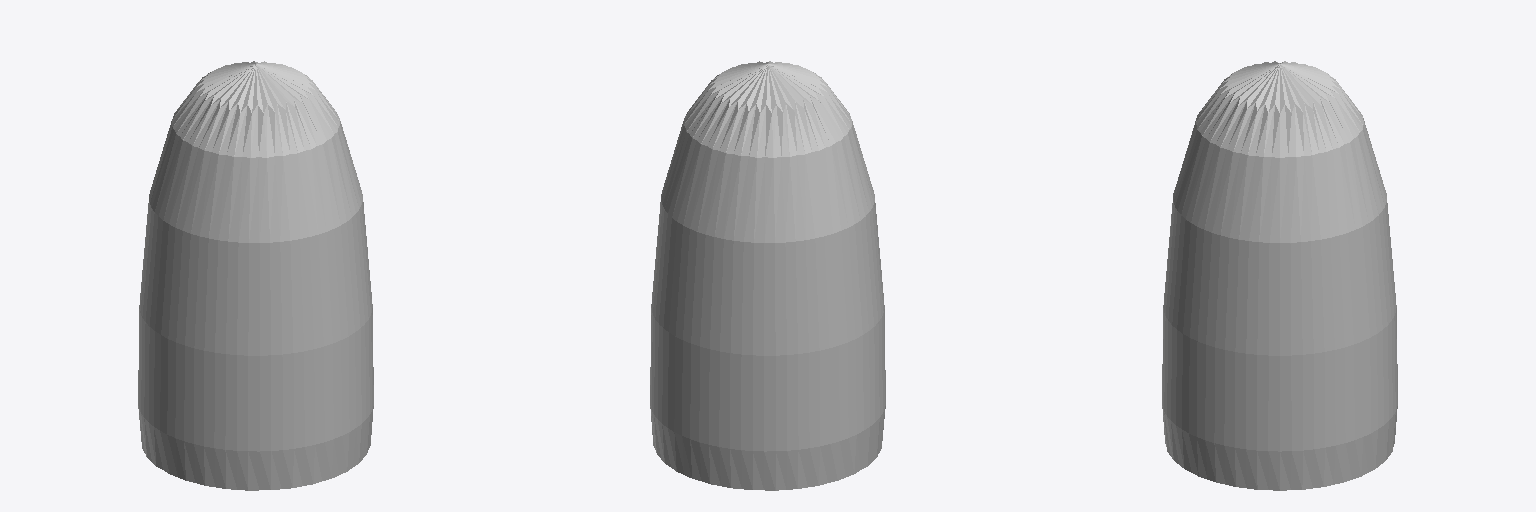
File: piedsT.obj
3 views of the same model, side by side, from view 1: azimuth 30°, elevation 25°; view 2: azimuth 150°, elevation 25°; view 3: azimuth 270°, elevation 25° (orthographic).
Parts seen in each view (by area): view 1: Cylindre; view 2: Cylindre; view 3: Cylindre.
Part boxes in pixels (x1,y1,x2,y2): Cylindre: (138, 61, 373, 490); Cylindre: (650, 61, 885, 490); Cylindre: (1162, 61, 1397, 490).
Size of the model in its own units: 0.4987 by 0.8956 by 0.4987.